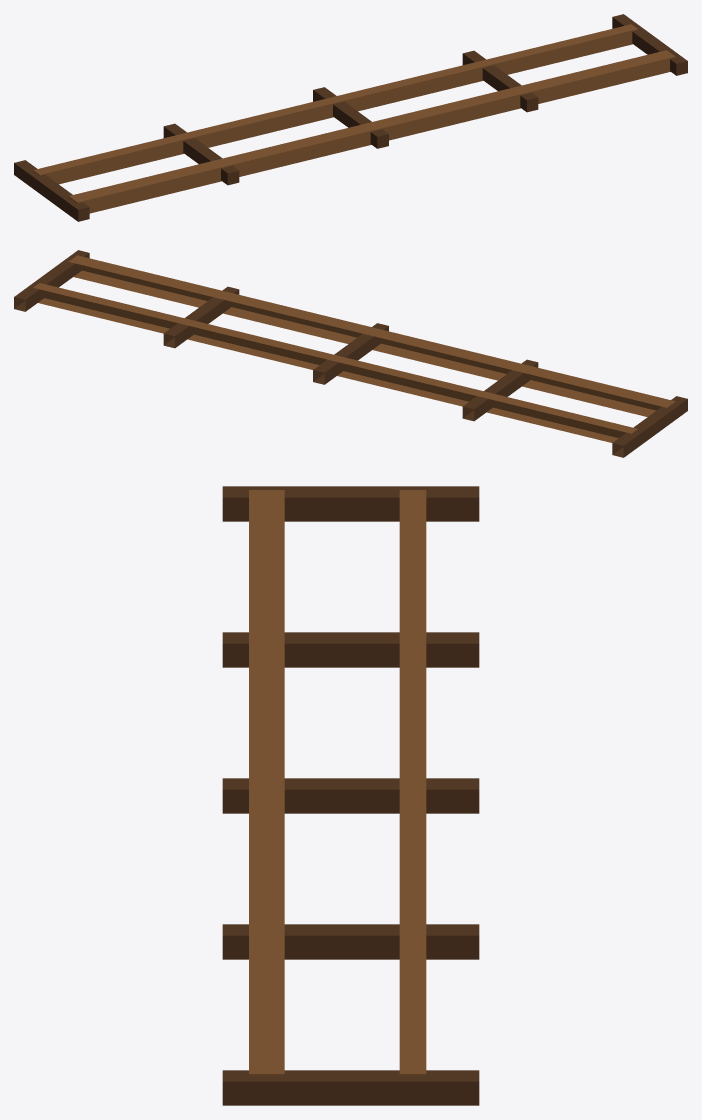
3 renders of one model, top to bottom at view 1: azimuth 30°, elevation 25°; view 2: azimuth 150°, elevation 25°; view 3: azimuth 270°, elevation 25°, orthographic. The views are drawn at different scales.
Parts seen in each view (by area): view 1: fence_3; view 2: fence_3; view 3: fence_3.
Part boxes in pixels (<box>): fence_3: <box>14,14,687,221</box>; fence_3: <box>14,250,687,457</box>; fence_3: <box>222,486,479,1105</box>.
Size of the model in its own units: 15.9 by 0.35 by 2.9.
